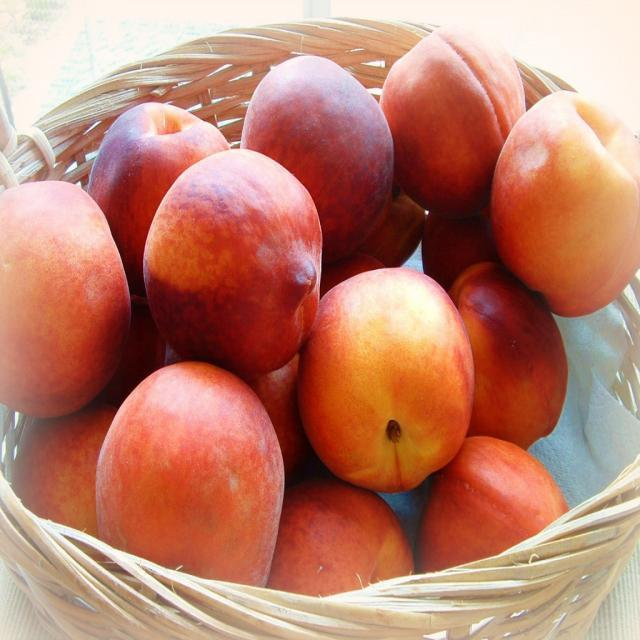Peach: (0, 20, 639, 599)
